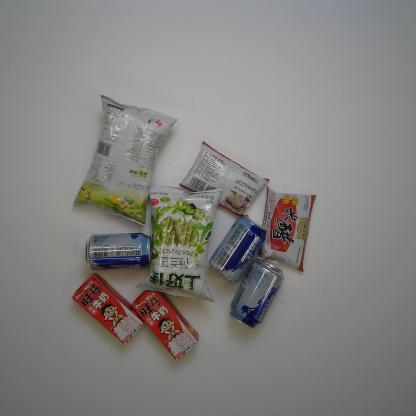Alcohol: (207, 213, 268, 285), (227, 256, 286, 329), (84, 230, 155, 272)
Milk: (69, 272, 146, 347), (131, 286, 199, 364)
Puffed Food: (73, 93, 180, 227), (132, 184, 222, 303)
Seasoner: (178, 139, 270, 219), (256, 186, 318, 272)
